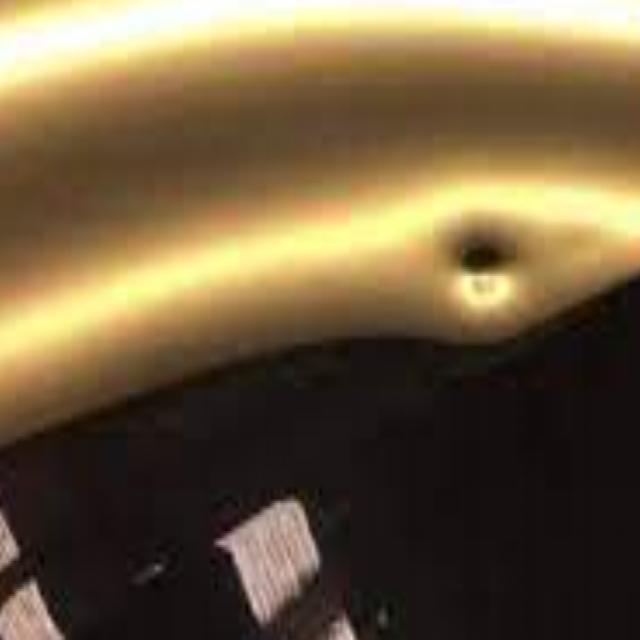dents: (425, 198, 534, 300)
